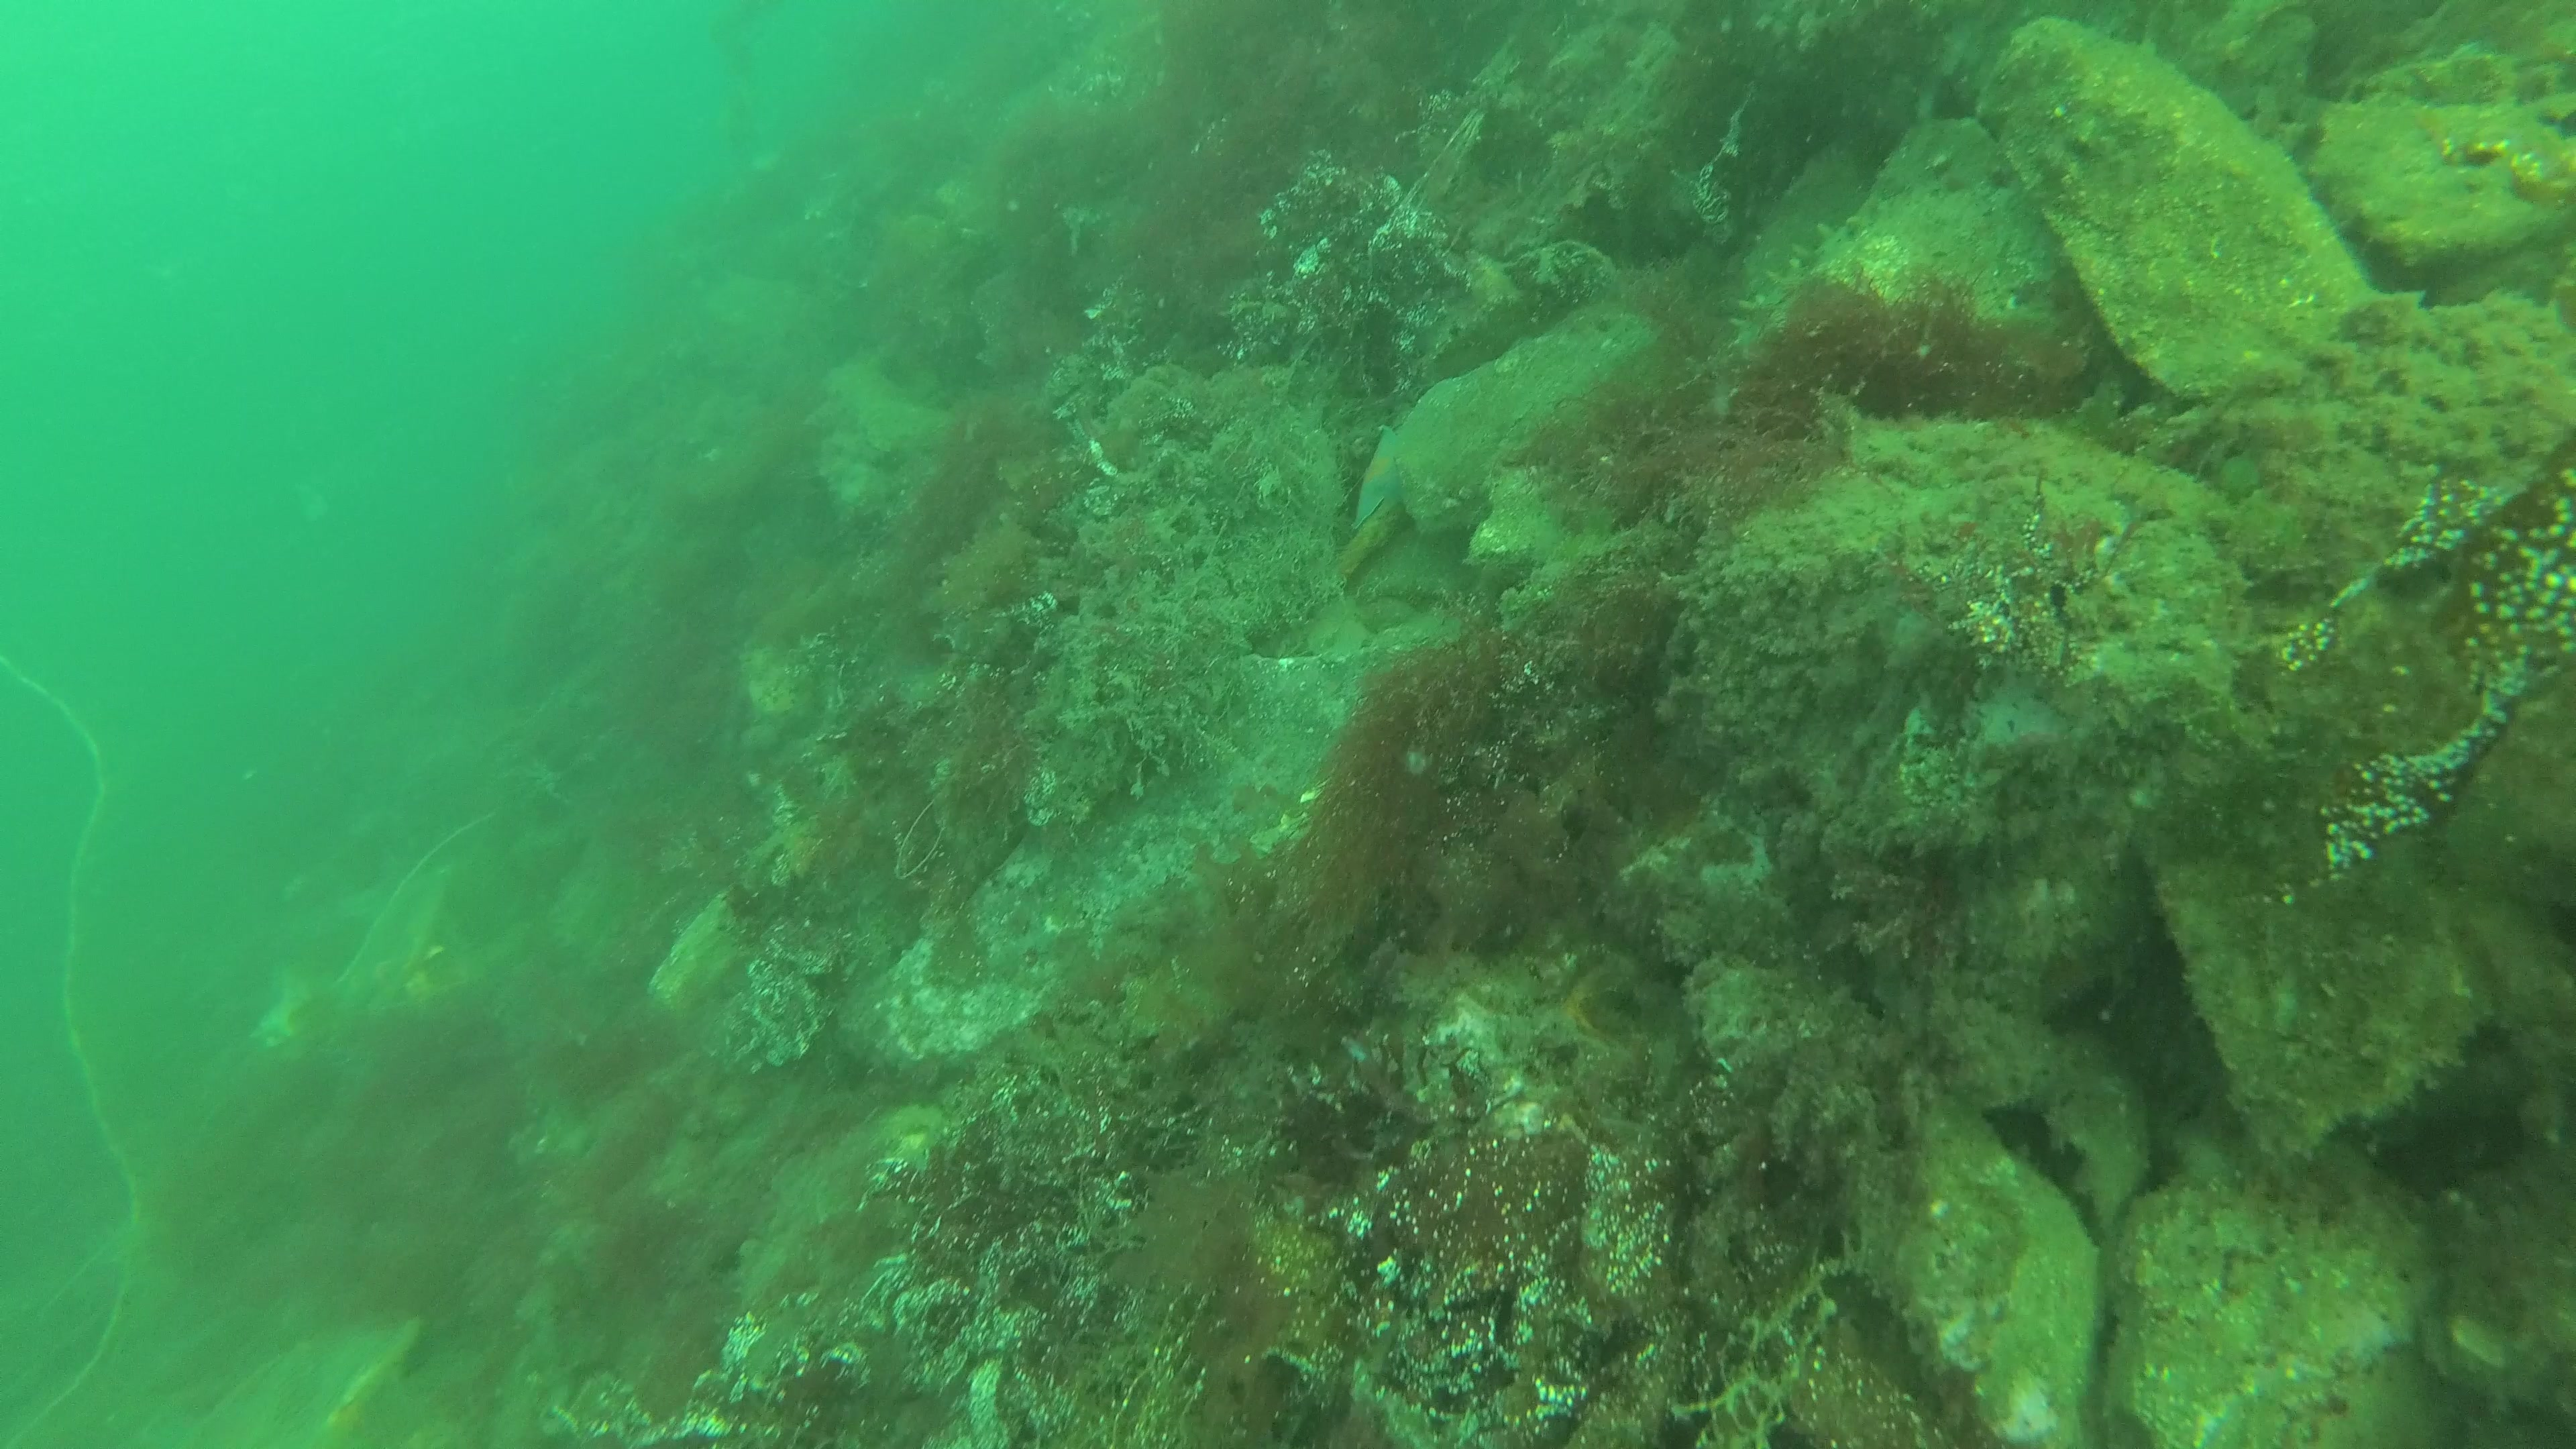holothurian: (1727, 216, 1872, 379)
starfish: (1346, 426, 1405, 531)
